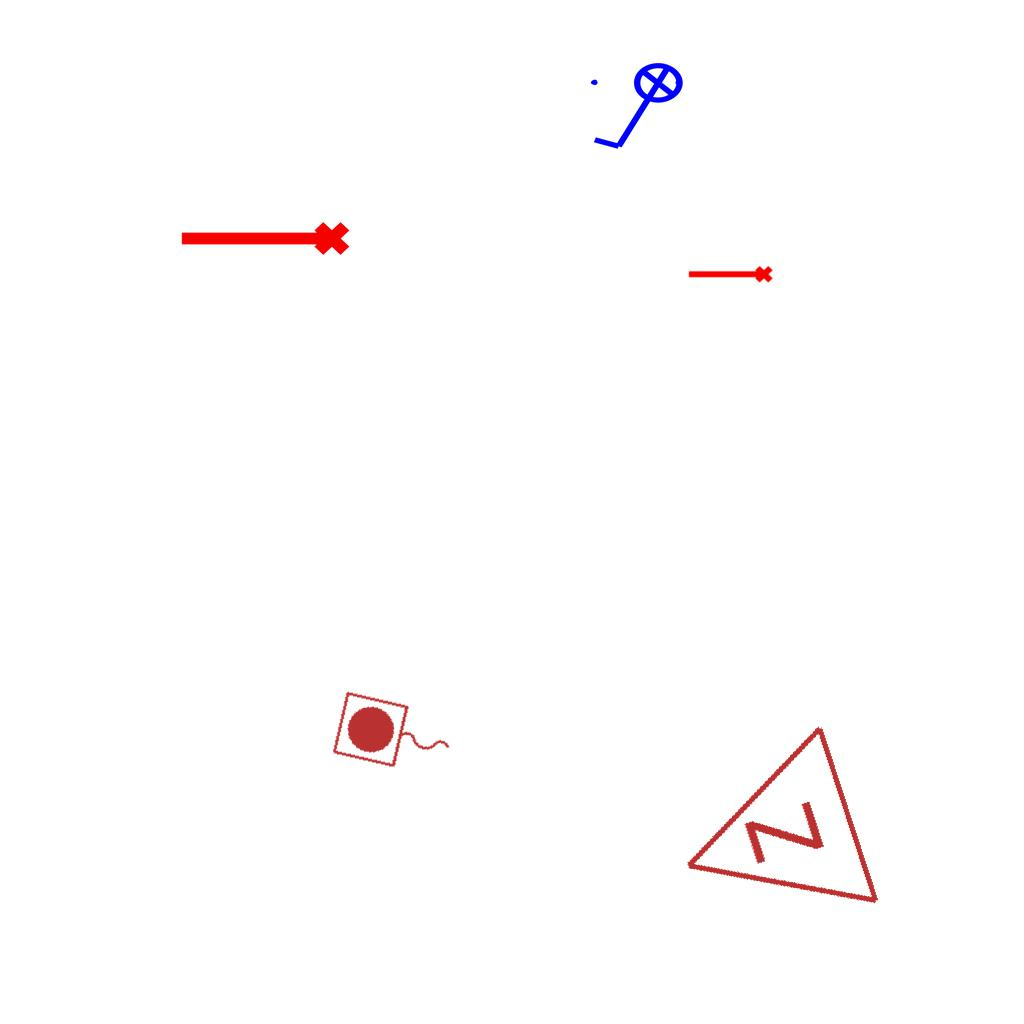ASR_Ansaugoeffnung: (176, 218, 352, 264), (686, 264, 774, 287)
Ausschalter_beleuchtet: (585, 61, 697, 157)
Zimmersignalleuchte: (644, 717, 896, 967)
Zugtaster: (327, 687, 463, 785)
